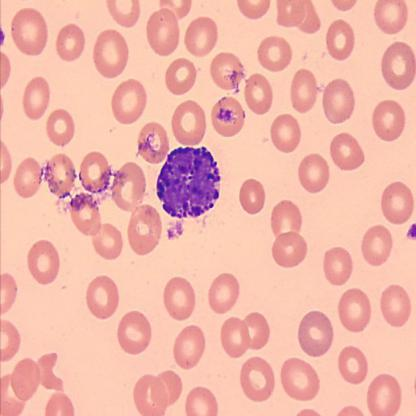Basophil: (154, 142, 224, 220)
